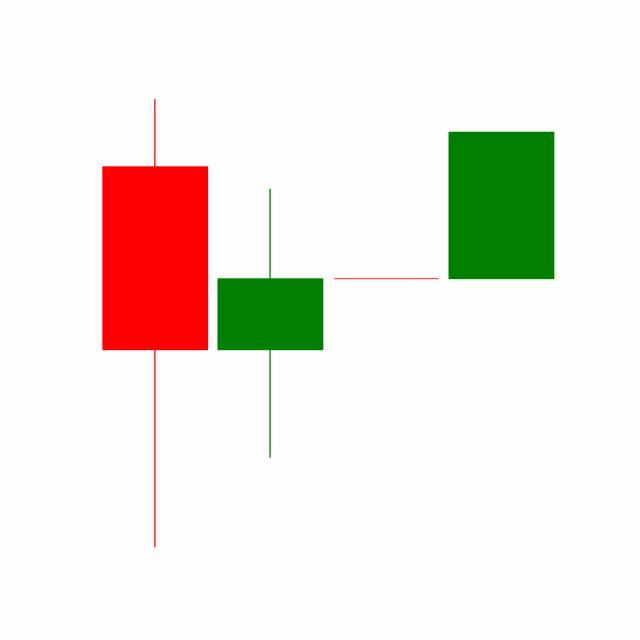Marubozu: (444, 131, 560, 282)
